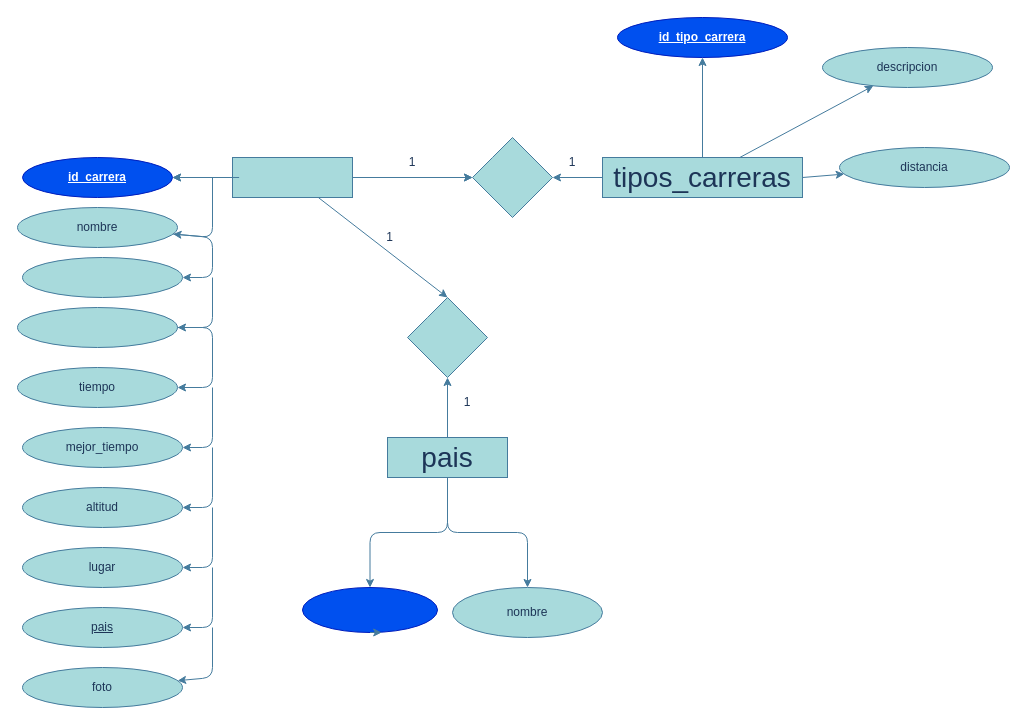
Image size: 1027x725. Some labels were removed from this diagram. The centre of each missing label's shape, as x and y in pixels:
"carrera" goes at (x=292, y=177).
"fecha" goes at (x=97, y=327).
"id_pais" goes at (x=370, y=609).
"pertenese" goes at (x=512, y=177).
"se_corre" goes at (x=447, y=337).
"tipo_de_carrera" goes at (x=102, y=277).
